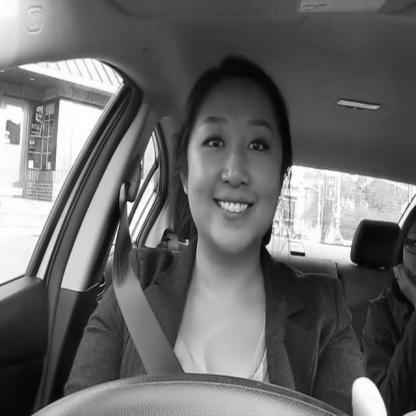seatbelt: (114, 47, 307, 416)
